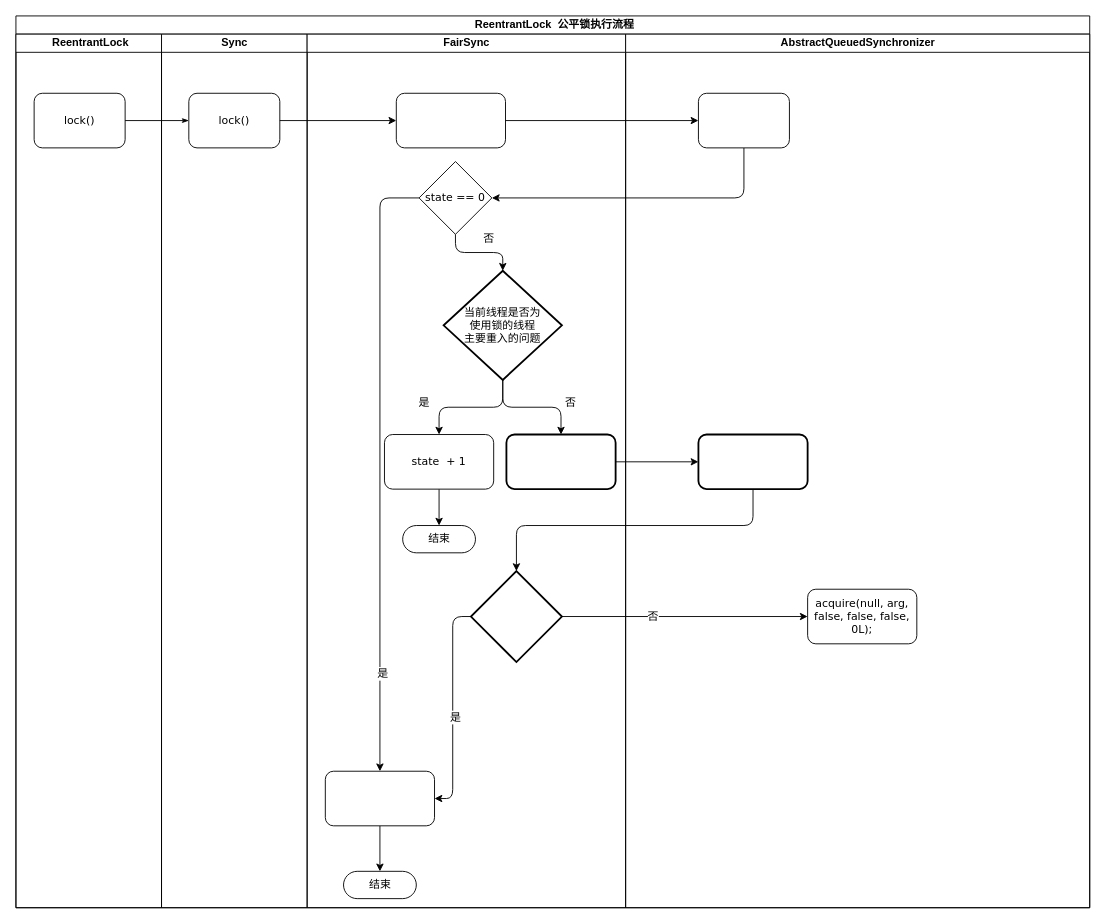
The diagram is 1106 pixels wide and 924 high, and some of its shapes have lost their labels. The shapes that lost their labels are listed below. From the top down, each one's centre as x and y in pixels, then its label:
At (450,120): "initialTryLock 尝试获取锁".
At (743,120): "getState()".
At (560,461): "acquire(1);".
At (752,461): "tryAcquire(arg)".
At (516,616): "state 是0， 并且 线程队列中前面没有线程排队 并且抢占线程成功".
At (379,798): "设置当前线程给锁".
